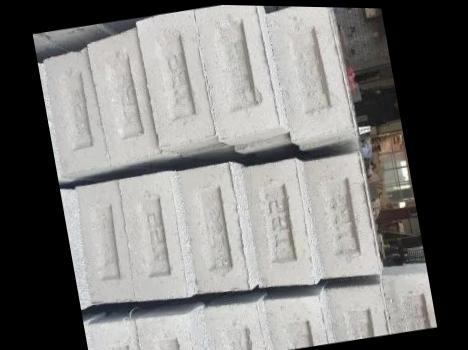brick: (262, 6, 354, 142), (135, 7, 219, 152), (197, 4, 283, 143), (84, 27, 164, 168), (236, 156, 318, 291), (112, 166, 191, 305), (298, 153, 378, 281), (176, 161, 250, 298), (36, 46, 111, 176), (64, 178, 138, 307), (322, 283, 388, 344), (380, 265, 437, 335), (262, 294, 328, 350), (196, 300, 266, 350), (131, 308, 194, 350), (83, 319, 144, 350)
